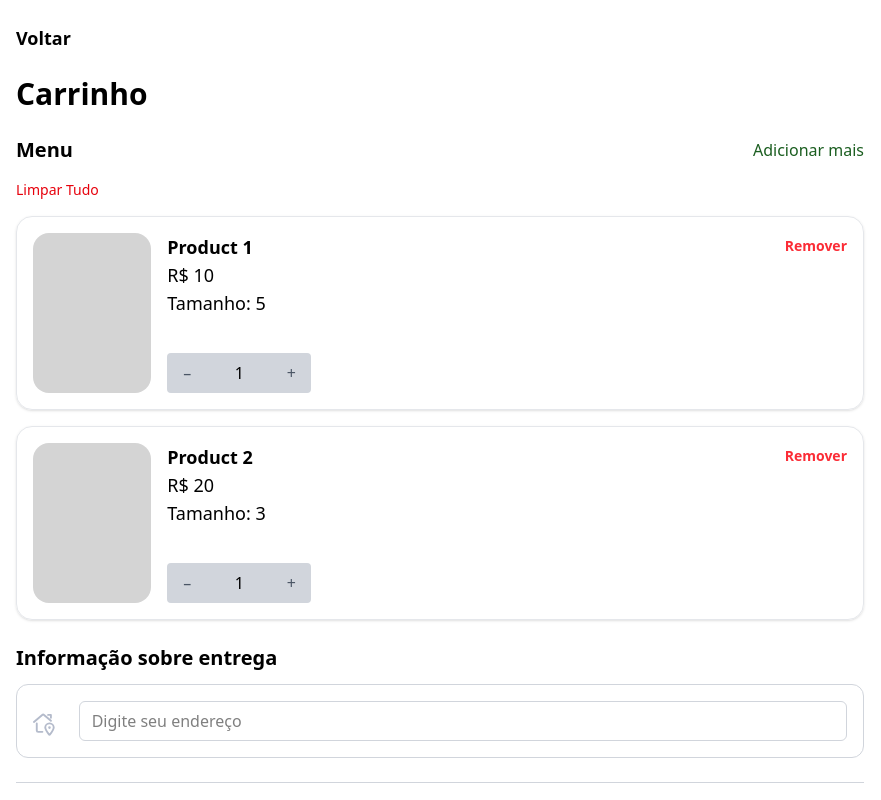
Test: ProductCart Component › enables buy button when address is filled
Type "123 Main St" into the field with placeholder "Digite seu endereço". click: x=463, y=721
box: [79, 701, 847, 741]
(page scrolled)
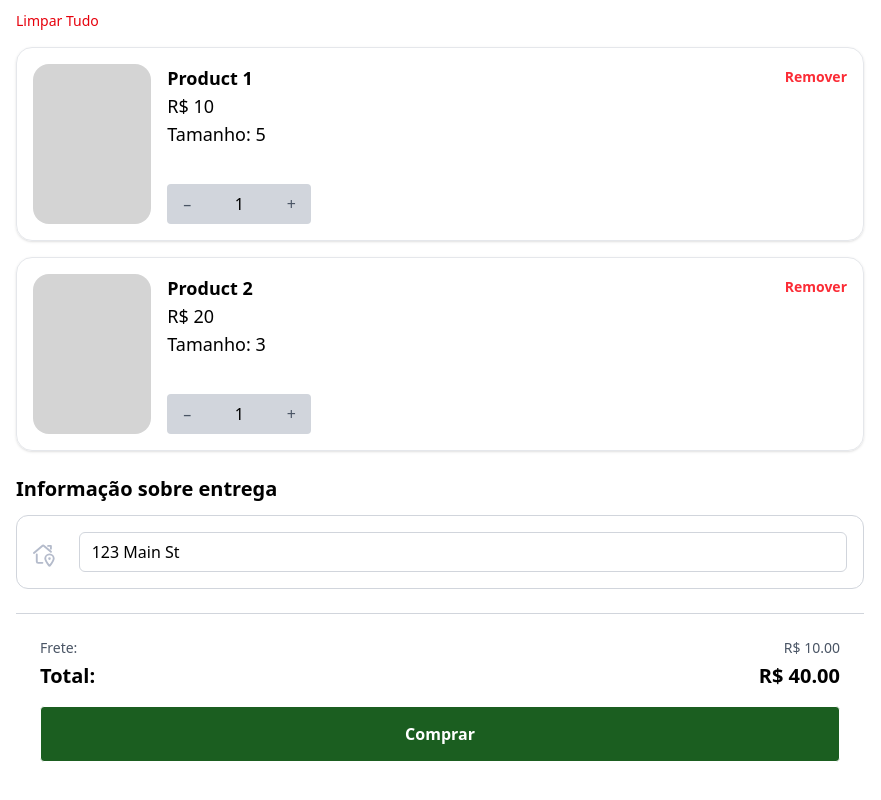
Now the button "Comprar" is enabled, box [40, 706, 840, 762]
